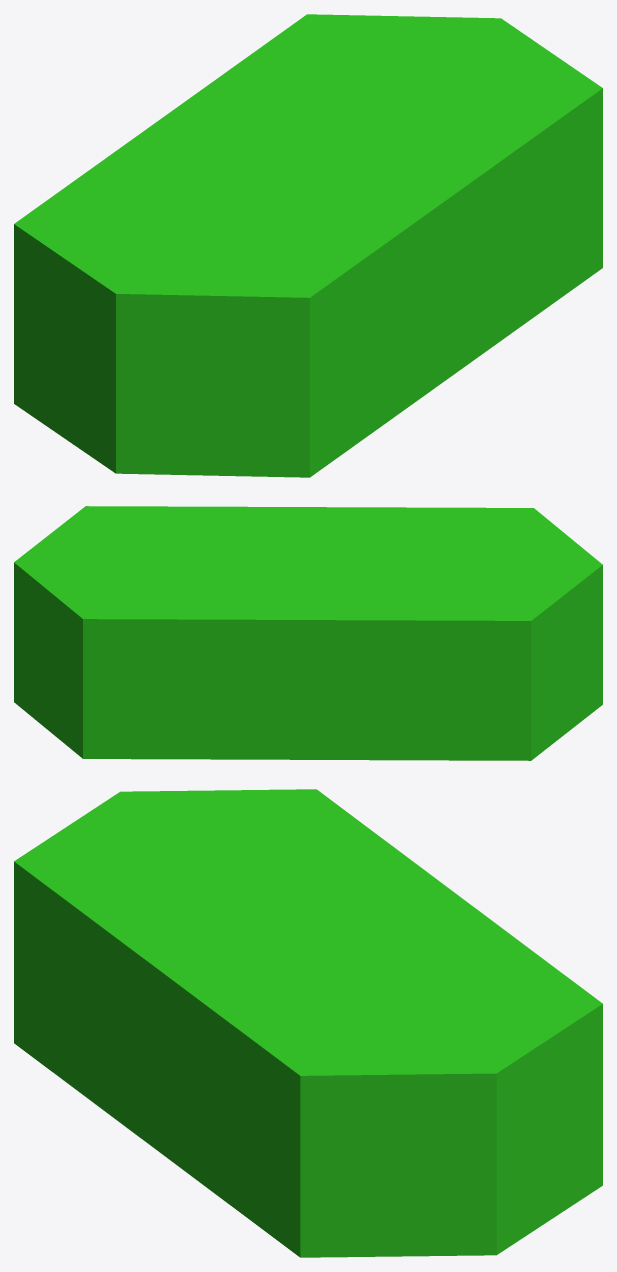
File: NormalContent.fbx
3 renders of one model, top to bottom at view 1: azimuth 30°, elevation 25°; view 2: azimuth 150°, elevation 25°; view 3: azimuth 270°, elevation 25°, orthographic. The views are drawn at different scales.
Visible parts, largest first — view 1: Model; view 2: Model; view 3: Model.
Boxes of the visible parts, x1,y1,x2,y2 form: Model: (14, 14, 602, 477); Model: (14, 506, 602, 760); Model: (14, 789, 602, 1257).
Size of what is drawn, in the model's own units: 1.04 by 0.308 by 0.9042.
